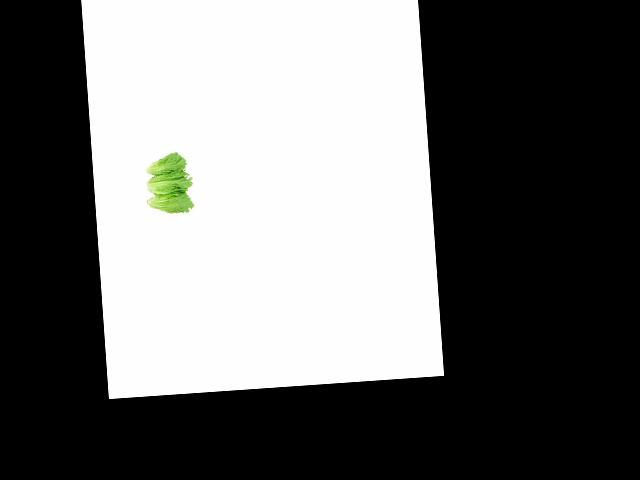lettuce: (134, 151, 188, 179)
